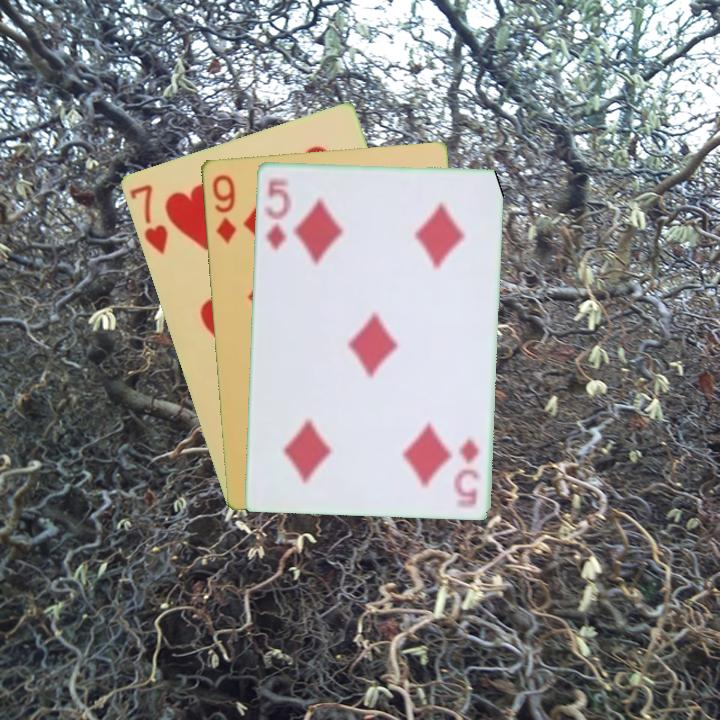5d: (260, 172, 293, 253), (453, 434, 483, 510)
7h: (125, 180, 171, 258)
9d: (208, 171, 238, 246)
